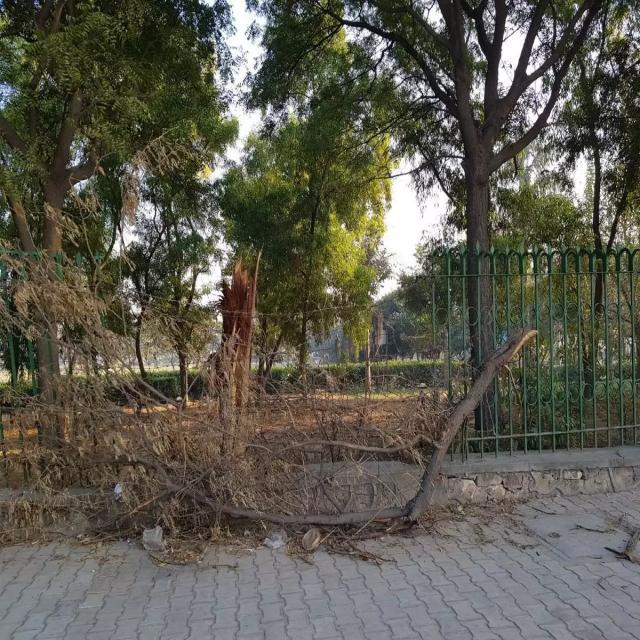fence line: (68, 264, 461, 448)
